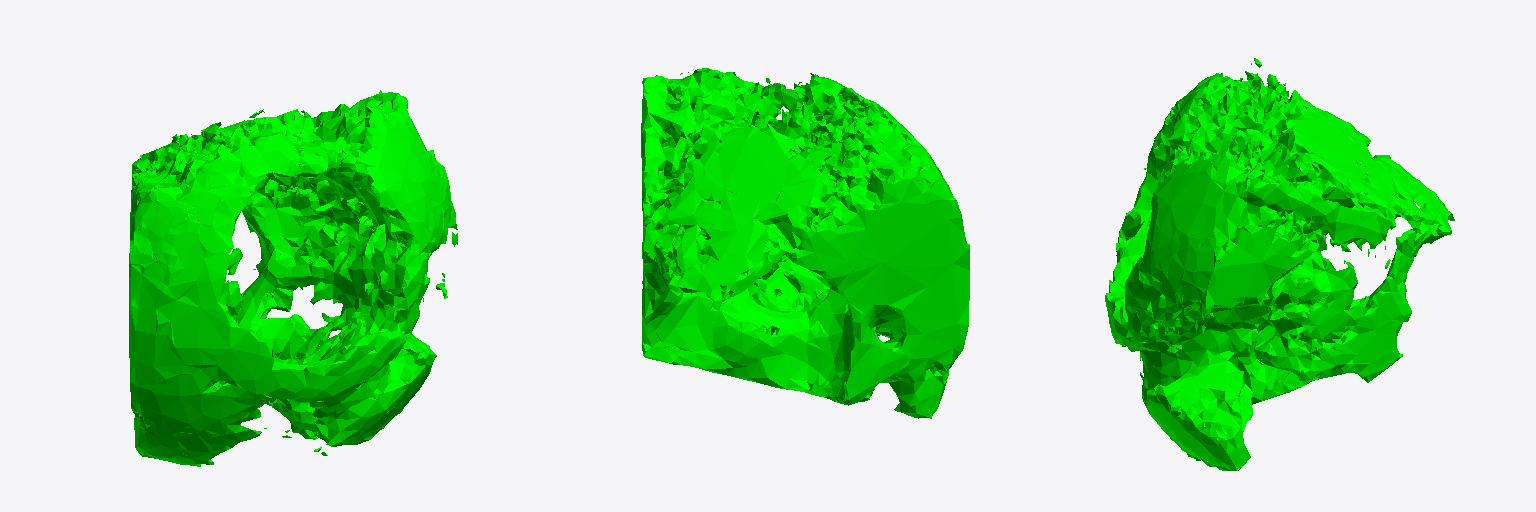
The model's file is B939XXXX-1_base_37.obj.
3 views of the same model, side by side, from view 1: azimuth 30°, elevation 25°; view 2: azimuth 150°, elevation 25°; view 3: azimuth 270°, elevation 25° (orthographic).
Visible parts, largest first — view 1: 37_base; view 2: 37_base; view 3: 37_base.
Part boxes in pixels (x1,y1,x2,y2): 37_base: (129, 90, 457, 466); 37_base: (641, 68, 969, 418); 37_base: (1105, 58, 1454, 470).
Bounding box in the file's own units: 218 × 216 × 203.